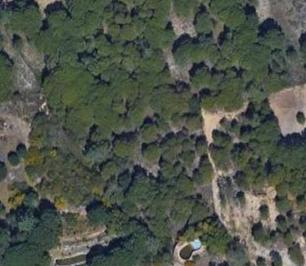pool: (177, 237, 204, 261)
